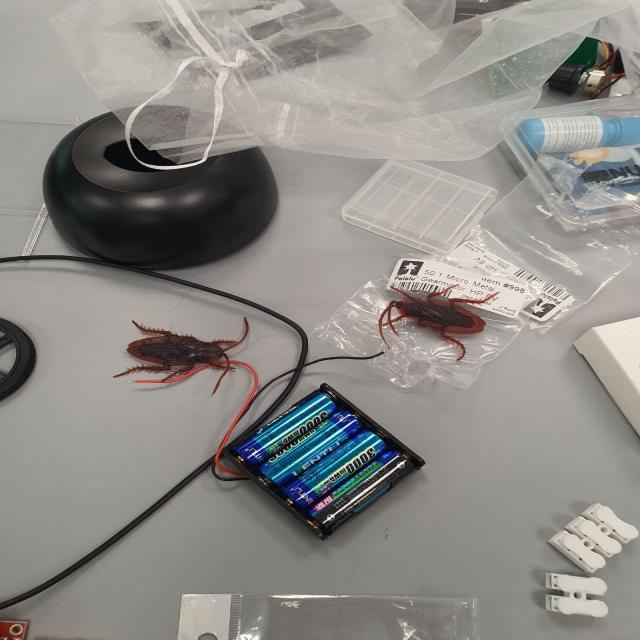Cockroach: (117, 316, 258, 392), (377, 279, 501, 361)
